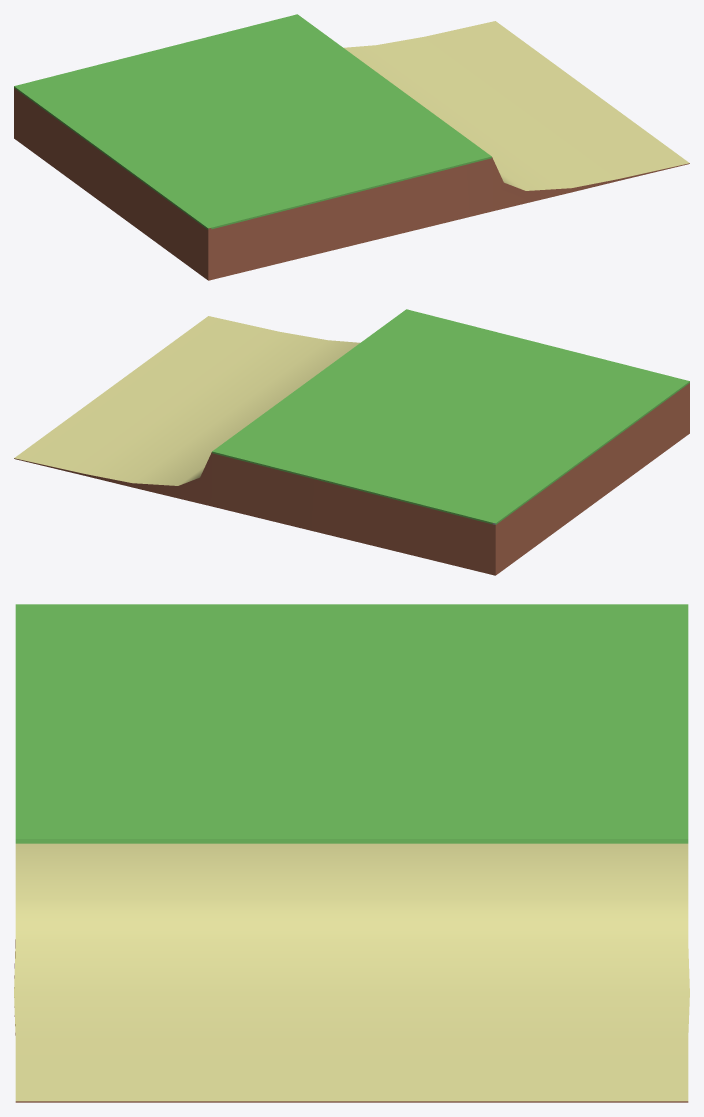
File: ISOMETRIC FLOOR 01.fbx
The picture shows the model from 3 angles, top to bottom: view 1: azimuth 30°, elevation 25°; view 2: azimuth 150°, elevation 25°; view 3: azimuth 270°, elevation 25°; orthographic projection. The views are drawn at different scales.
Parts seen in each view (by area): view 1: ISOMETRIC_FLOOR; view 2: ISOMETRIC_FLOOR; view 3: ISOMETRIC_FLOOR.
Boxes of the visible parts, x1,y1,x2,y2 form: ISOMETRIC_FLOOR: (14,14,689,280); ISOMETRIC_FLOOR: (14,309,689,575); ISOMETRIC_FLOOR: (14,604,689,1102).
Size of the model in its own units: 4999 by 553 by 3513.
